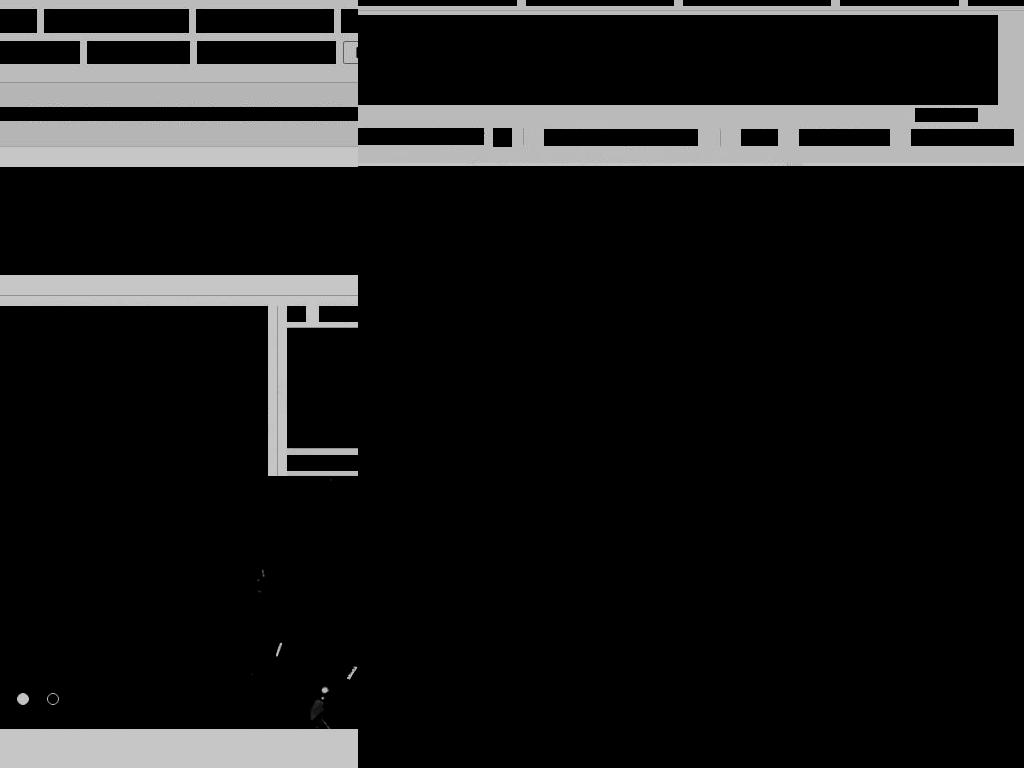button: (783, 166, 1024, 476), (472, 166, 784, 333), (0, 306, 268, 476), (472, 333, 784, 476), (358, 166, 473, 476), (27, 559, 238, 605), (760, 590, 953, 639), (593, 590, 745, 639), (44, 9, 189, 33), (196, 9, 334, 33), (197, 41, 336, 64), (87, 41, 190, 64), (358, 128, 484, 145), (0, 41, 80, 64), (0, 9, 37, 33), (915, 108, 978, 122), (493, 128, 512, 147)
heading: (405, 476, 1024, 535), (814, 441, 1024, 476), (544, 129, 698, 146), (813, 188, 865, 205)
iframe: (358, 476, 1024, 768), (358, 15, 998, 105), (805, 166, 1024, 416), (0, 167, 358, 257)
image: (358, 476, 1024, 768), (783, 166, 1024, 476), (472, 166, 784, 332), (0, 306, 268, 476), (472, 333, 784, 476), (358, 166, 472, 476), (287, 328, 358, 448), (355, 47, 358, 58)
link: (911, 129, 1014, 146), (799, 129, 890, 146), (741, 129, 778, 146), (323, 107, 358, 121)
text: (358, 543, 1024, 578), (0, 482, 303, 532), (492, 261, 723, 315), (803, 417, 1024, 470), (0, 257, 358, 275), (492, 447, 707, 476), (358, 417, 453, 470), (0, 107, 323, 121), (358, 128, 459, 145), (287, 455, 358, 471), (319, 306, 358, 322), (669, 297, 708, 312), (458, 128, 484, 145), (287, 306, 306, 322), (928, 108, 939, 119)
